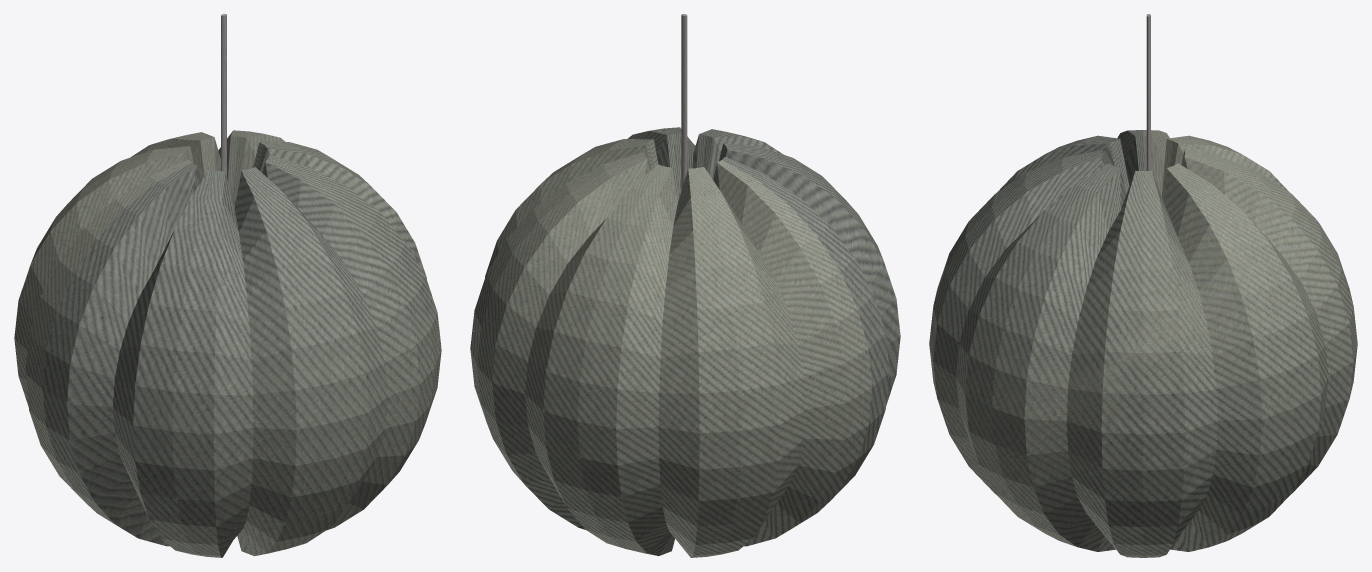
Rendered from Lumanare.fbx.
3 views of the same model, side by side, from view 1: azimuth 30°, elevation 25°; view 2: azimuth 150°, elevation 25°; view 3: azimuth 270°, elevation 25° (orthographic).
Parts seen in each view (by area): view 1: Sphere, Cylinder; view 2: Sphere, Cylinder; view 3: Sphere, Cylinder.
Boxes of the visible parts, x1=… form: Sphere: x1=14, y1=130, x2=441, y2=557; Cylinder: x1=221, y1=14, x2=226, y2=177; Sphere: x1=470, y1=127, x2=900, y2=557; Cylinder: x1=681, y1=14, x2=687, y2=190; Sphere: x1=929, y1=130, x2=1357, y2=557; Cylinder: x1=1146, y1=14, x2=1150, y2=170.
Bounding box in the file's own units: 200 × 269 × 200.
